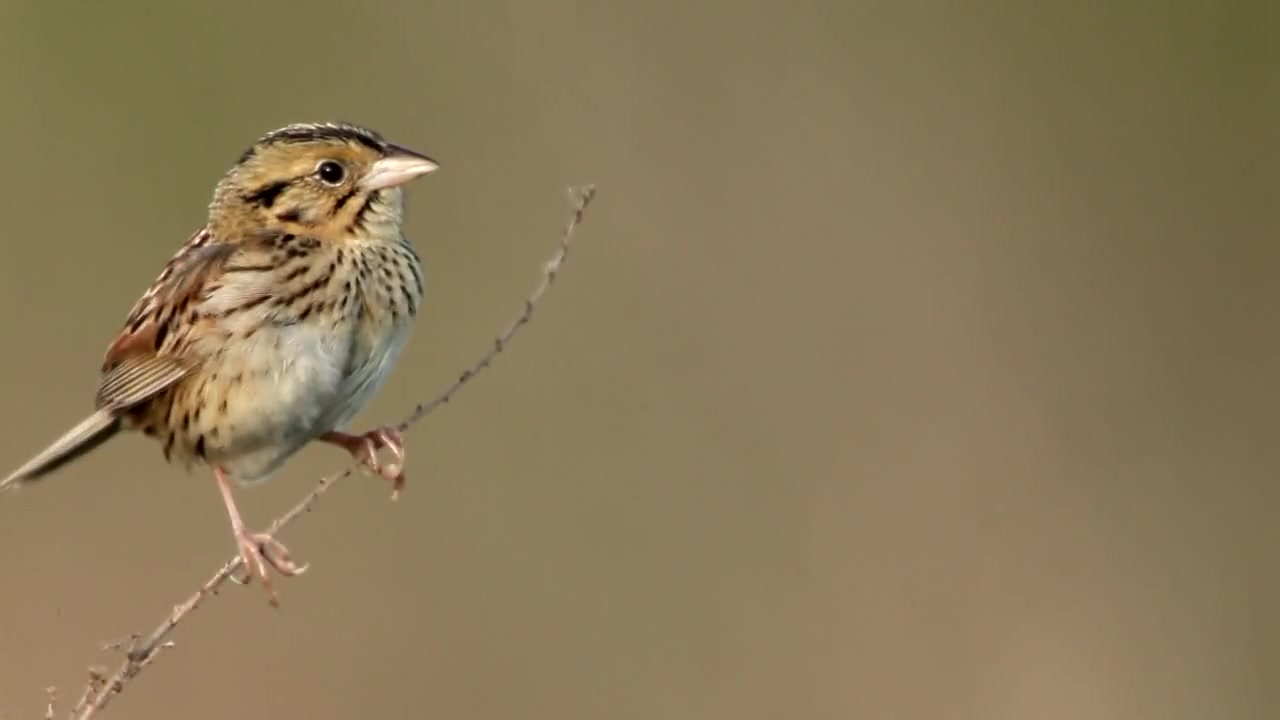bird: (1, 120, 447, 611)
